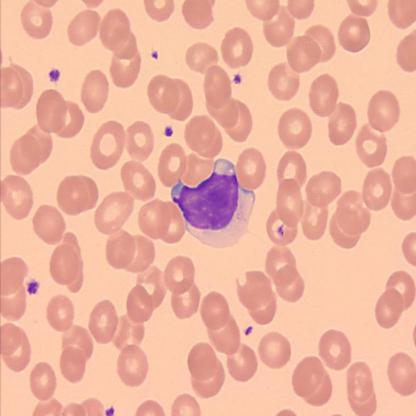Atypical lymphocyte: (171, 157, 258, 248)
